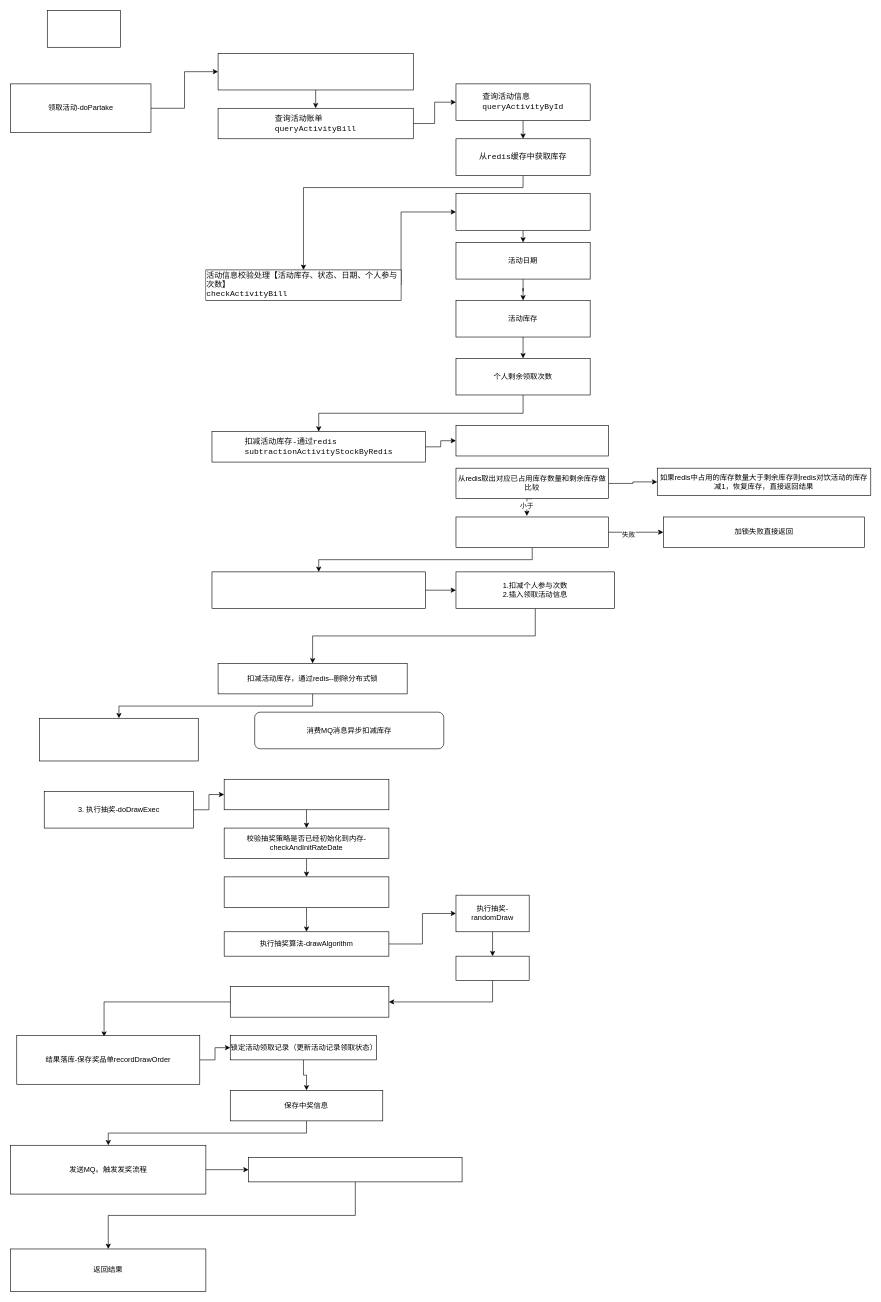
Image size: 881x1302. Some labels were removed from this diagram. The shapes that lost their labels are listed below. From the top down, each one's centre as x and y in pixels, then its label:
At [83,28]: "开始".
At [315,71]: "查询是否存在未执行抽奖领取活动单 queryNoConsumedTakeActivityOrder".
At [522,211]: "活动状态".
At [531,440]: "通过活动id每次加一代表已占用库存".
At [531,531]: "通过活动号_以及当前占用库存数量作为key加分布式锁，细化锁的力度。使每个用户都有自己独立的锁".
At [318,589]: "插入领取活动信息-id雪花算法".
At [118,739]: "2.首次领取活动，发送MQ消息".
At [306,794]: "获取抽奖策略--queryStrategyRich".
At [306,891]: "查询不抽奖范围内的列表-queryExcludeAwardIds".
At [492,968]: "扣减相应奖品库存 deductStock".
At [309,1001]: "f返回中奖结果".
At [355,1169]: "MQ消息发送完成，更新数据库表状态（更新为已成功发送） (如果发送失败，更新状态为2，等等定时任务补偿MQ消息)".
